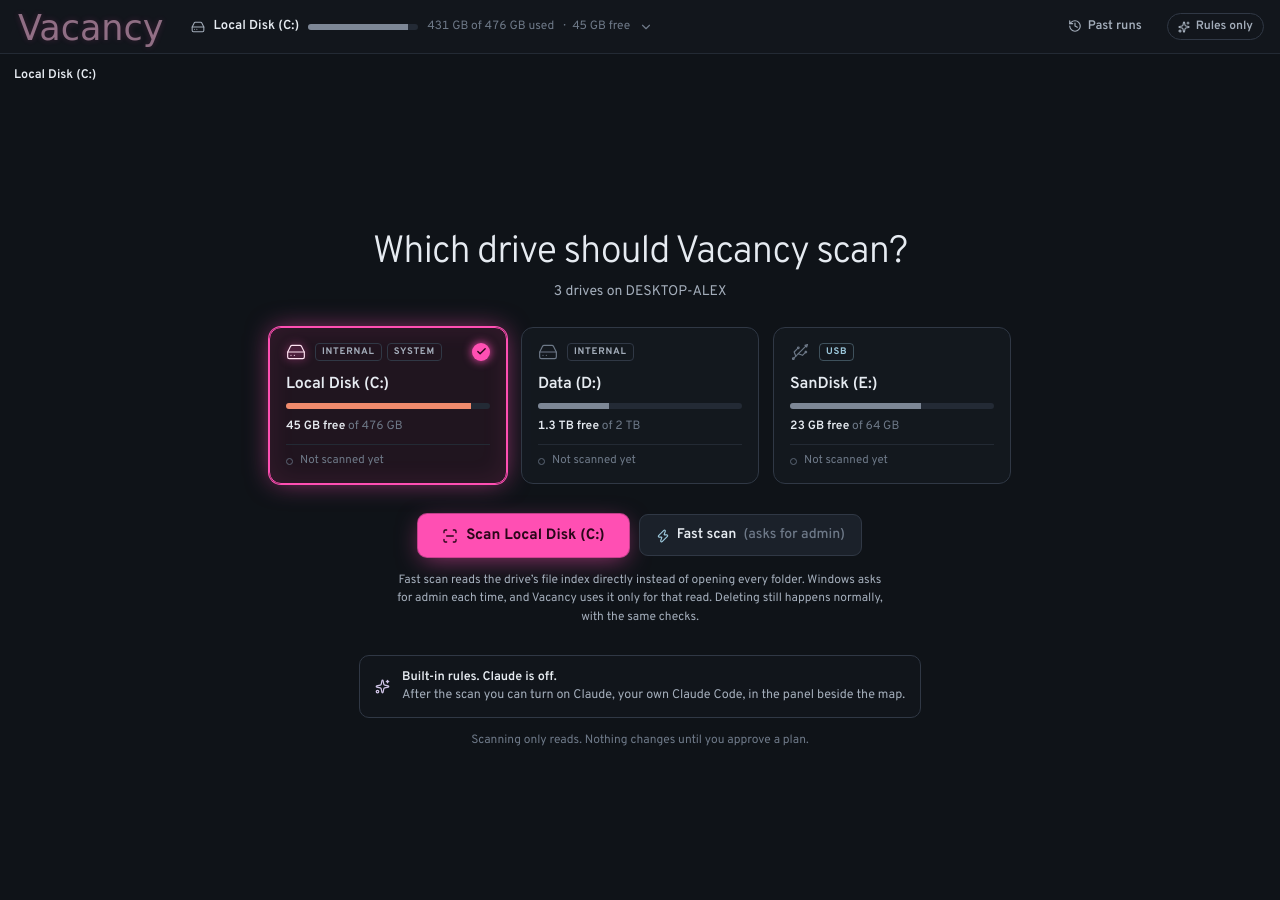
past runs › counts kept runs it couldn’t read, and lists the rest
Click the button "Past runs" at {"x": 1105, "y": 26}, box [1057, 13, 1153, 39]
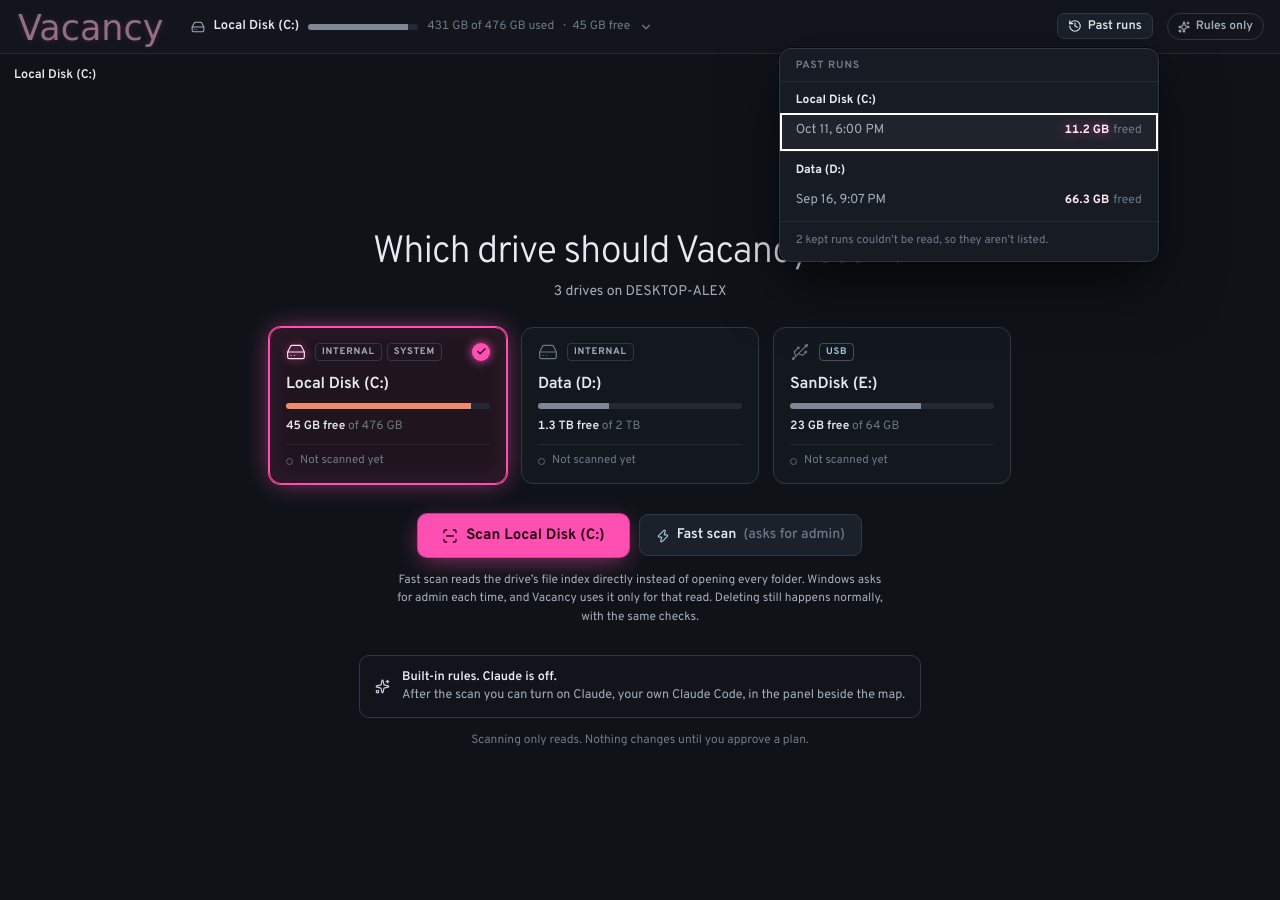
Result: the menu "Past runs" shows "2 kept runs couldn’t be read, so they aren’t listed." at [796, 233, 1048, 247]
Result: the number of menu items is 2 at [780, 113, 1158, 151]; [780, 183, 1158, 221]
